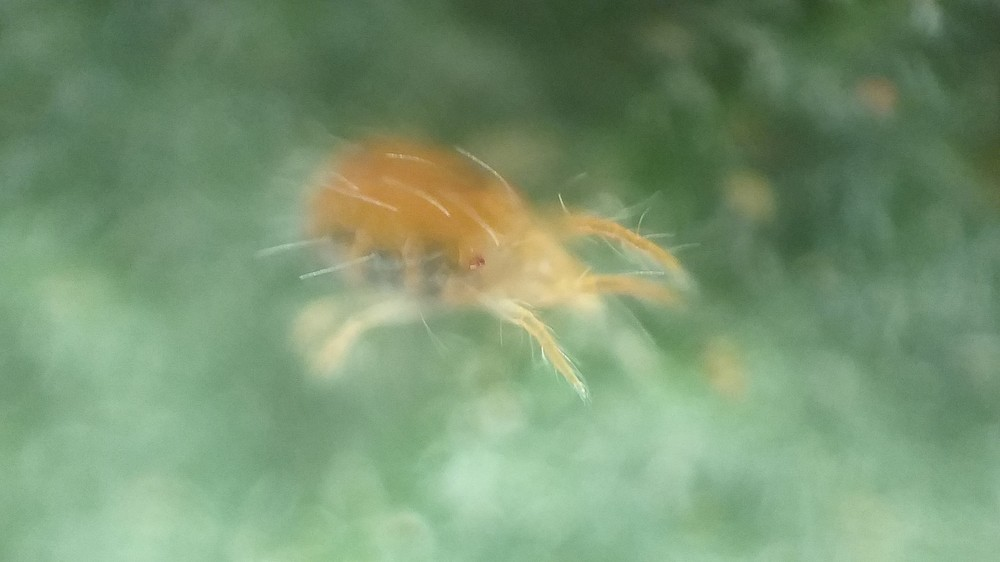Aracnido Rojo: (224, 103, 710, 414)
